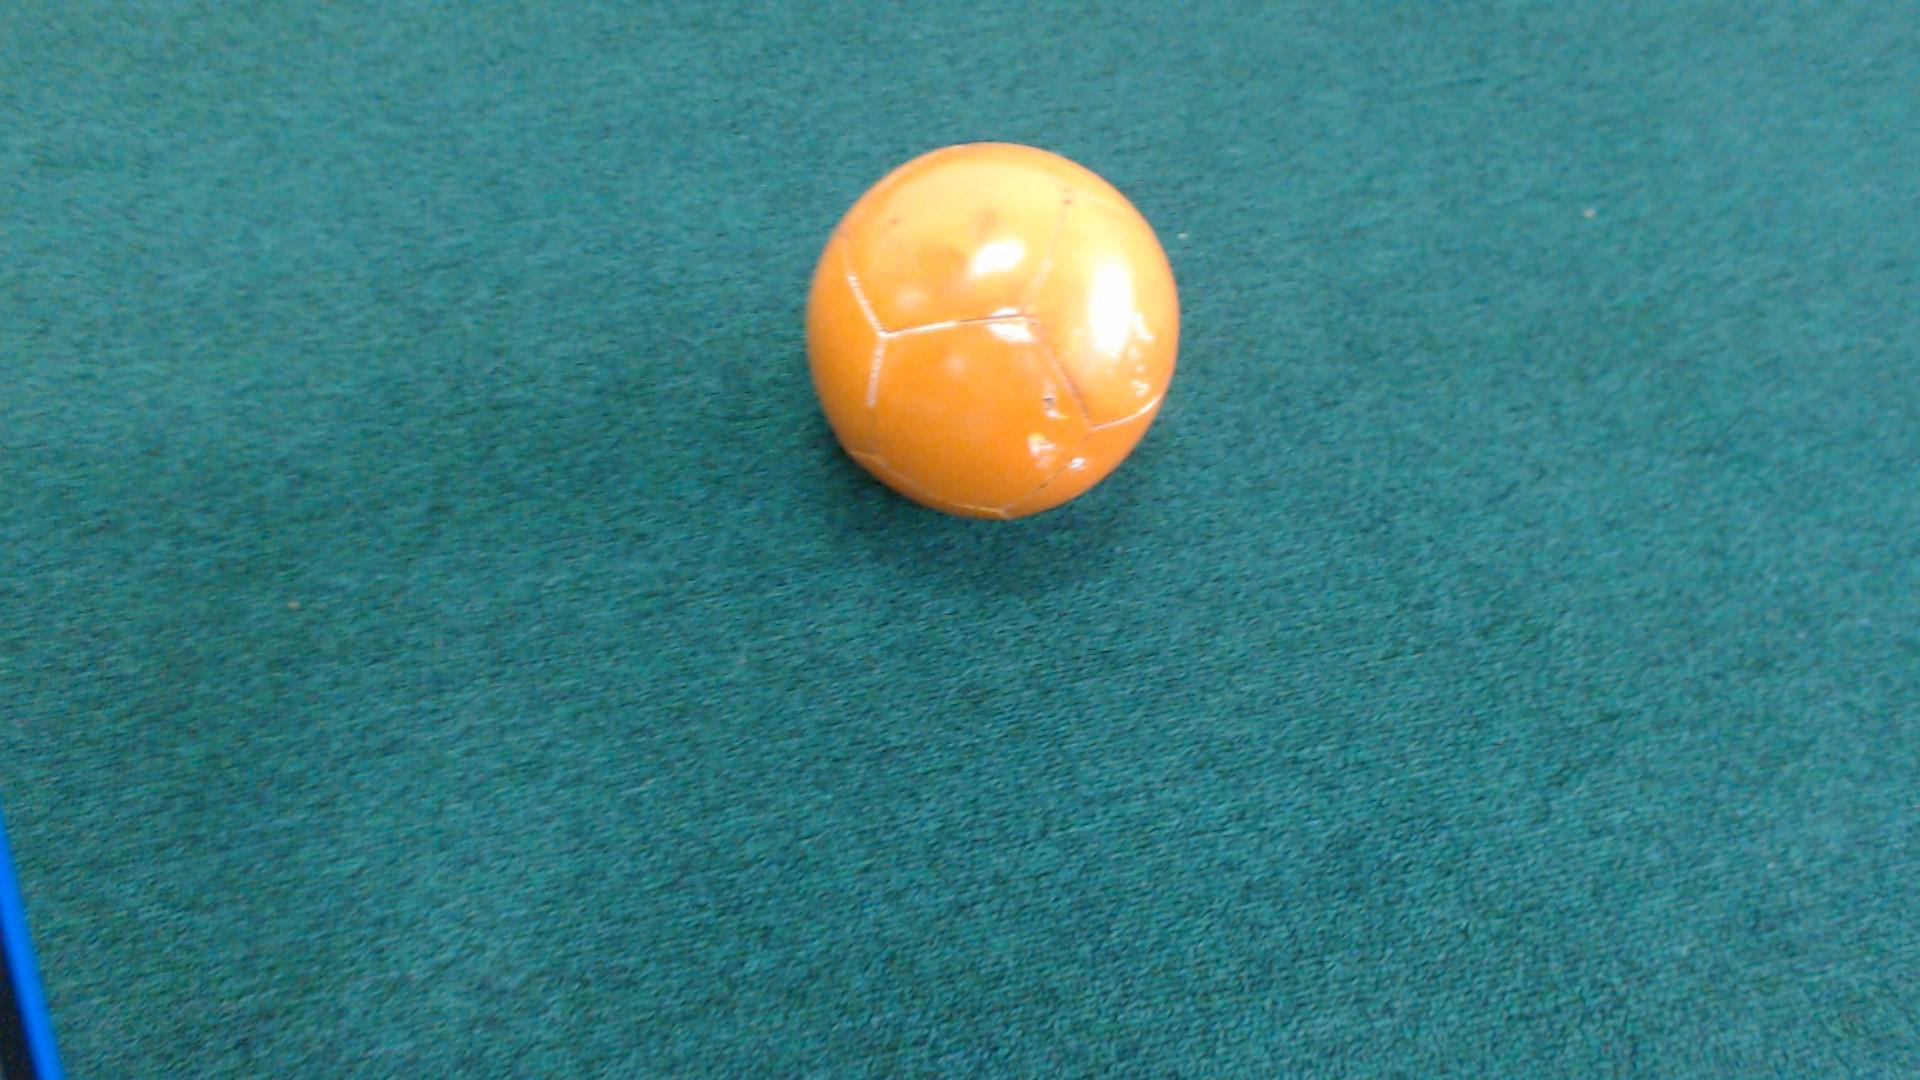bola: (777, 123, 1205, 542)
